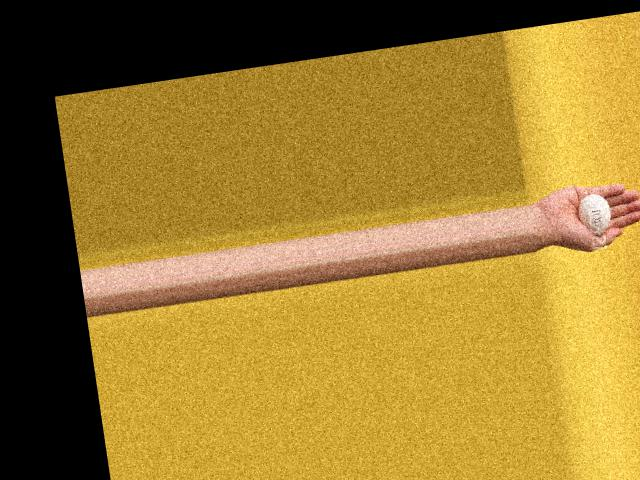egg: (576, 191, 613, 236)
